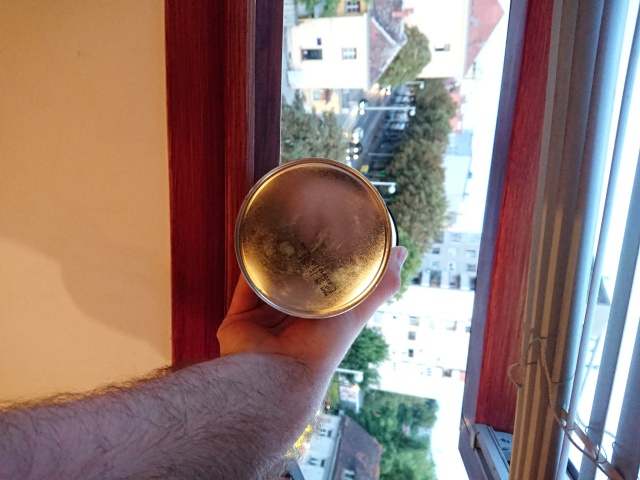Nescafe Classic 225g: (231, 154, 403, 323)
